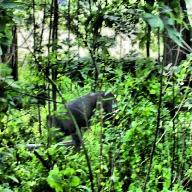boar: (39, 82, 135, 162)
